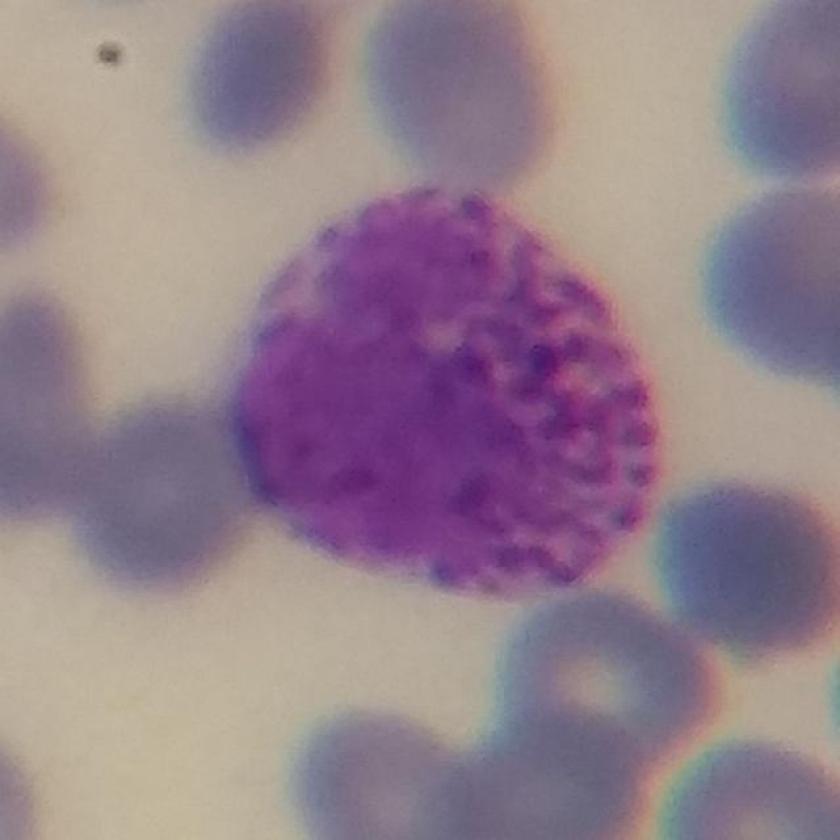basophil: (216, 164, 681, 615)
